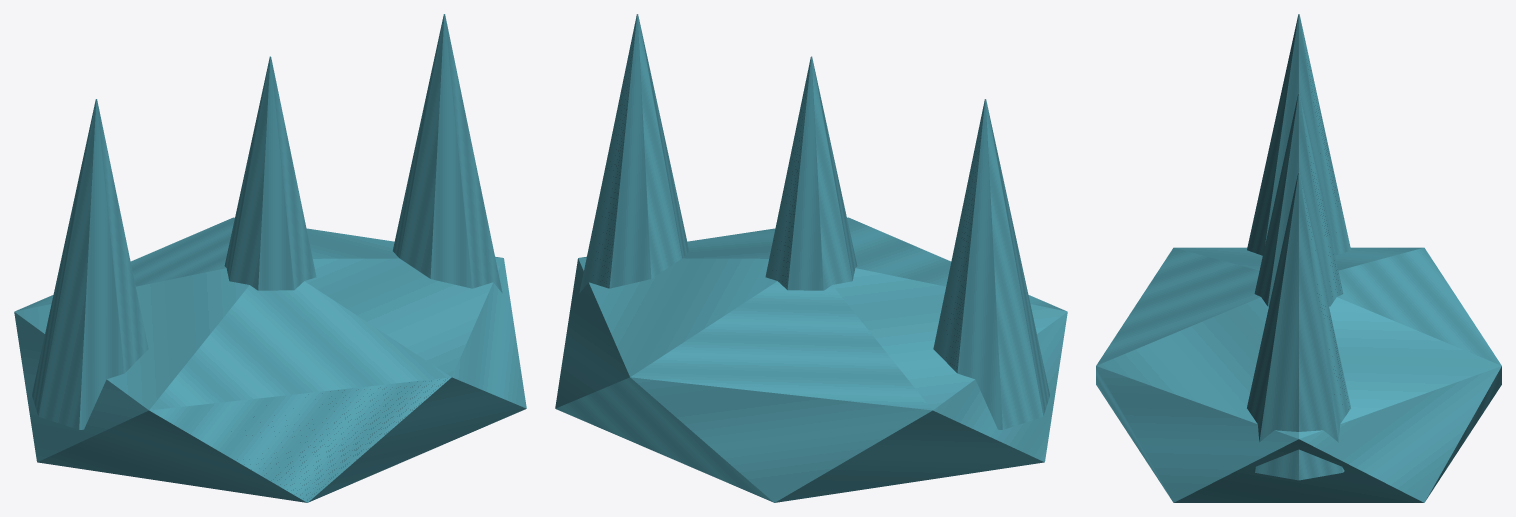
The model's file is storm_touch.glb.
The picture shows the model from 3 angles, left to right: view 1: azimuth 30°, elevation 25°; view 2: azimuth 150°, elevation 25°; view 3: azimuth 270°, elevation 25°; orthographic projection. The views are drawn at different scales.
Parts seen in each view (by area): view 1: gear_storm_touch; view 2: gear_storm_touch; view 3: gear_storm_touch.
Part boxes in pixels (x1,y1,x2,y2): gear_storm_touch: [14, 14, 526, 502]; gear_storm_touch: [555, 14, 1067, 502]; gear_storm_touch: [1096, 14, 1501, 502].
Size of the model in its own units: 0.483 by 0.4 by 0.3913.
Materials: 1 (1 with a texture image).
